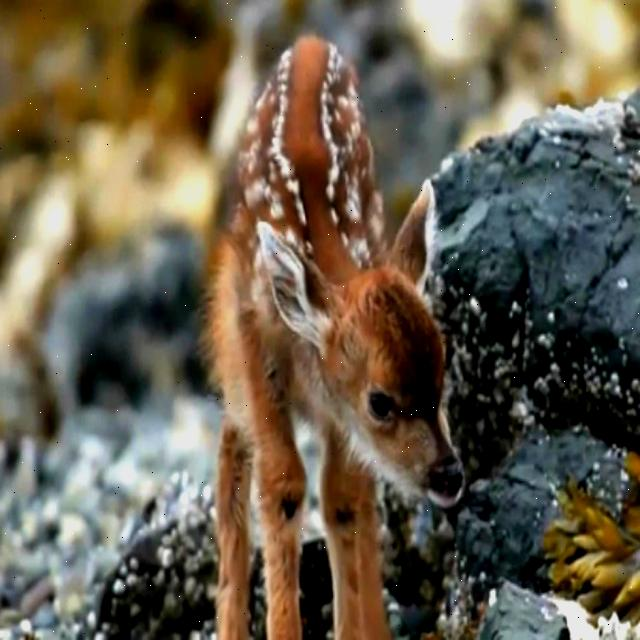deer: (256, 159, 489, 531)
